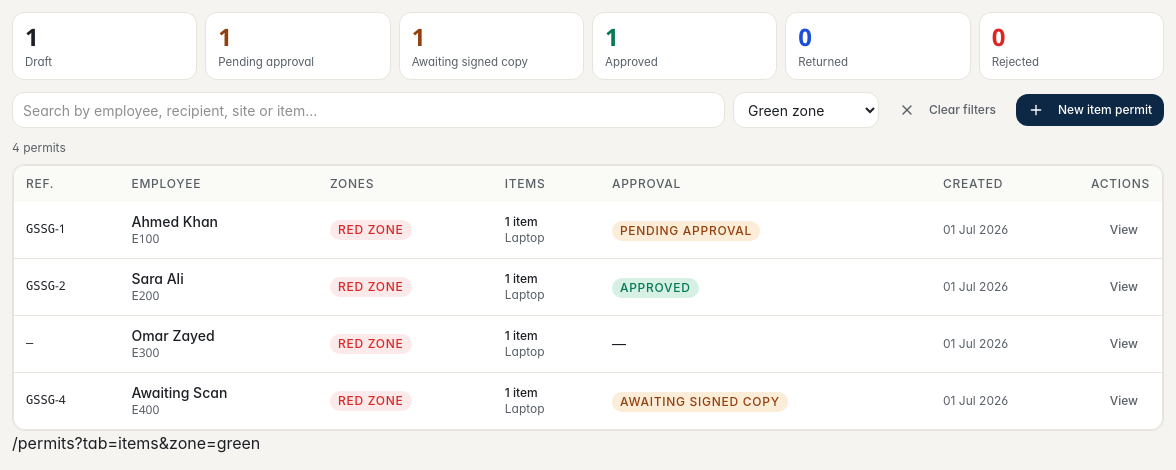
Test: ItemPermitsTab › passes URL zone green to the server and preserves it when selecting approval
Expected: the text "Ahmed Khan" is shown, x1=132 y1=213 x2=218 y2=230
Expected: the dropdown named "Zone" shows "Green zone", x1=733 y1=92 x2=879 y2=128
Click the button "1 Pending approval" at (298, 46), box x1=205 y1=12 x2=391 y2=80
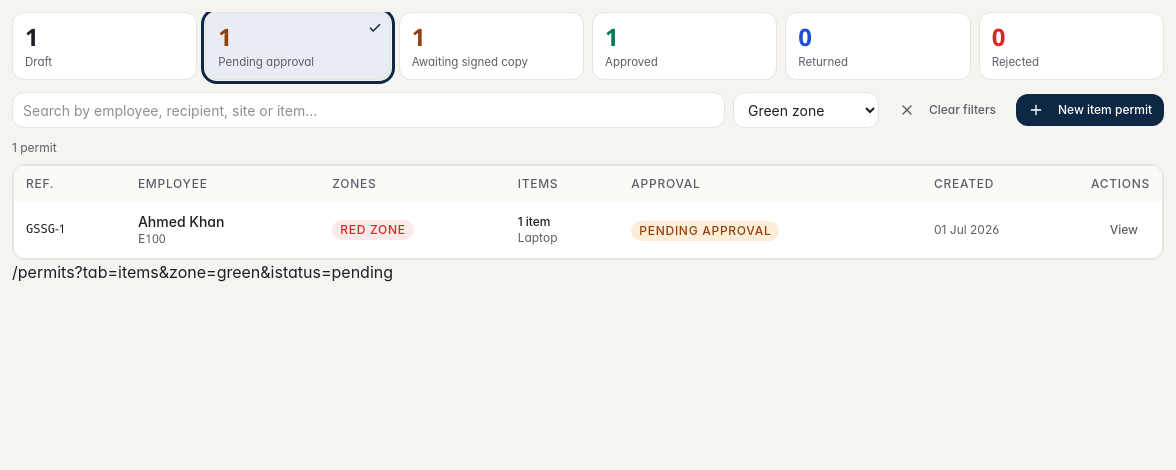
Expected: the text with test id "location" shows "zone=green", x1=12 y1=262 x2=393 y2=282
Now the text with test id "location" shows "istatus=pending", box x1=12 y1=262 x2=393 y2=282
Click the button "Clear filters" at (947, 110), box x1=887 y1=94 x2=1008 y2=126
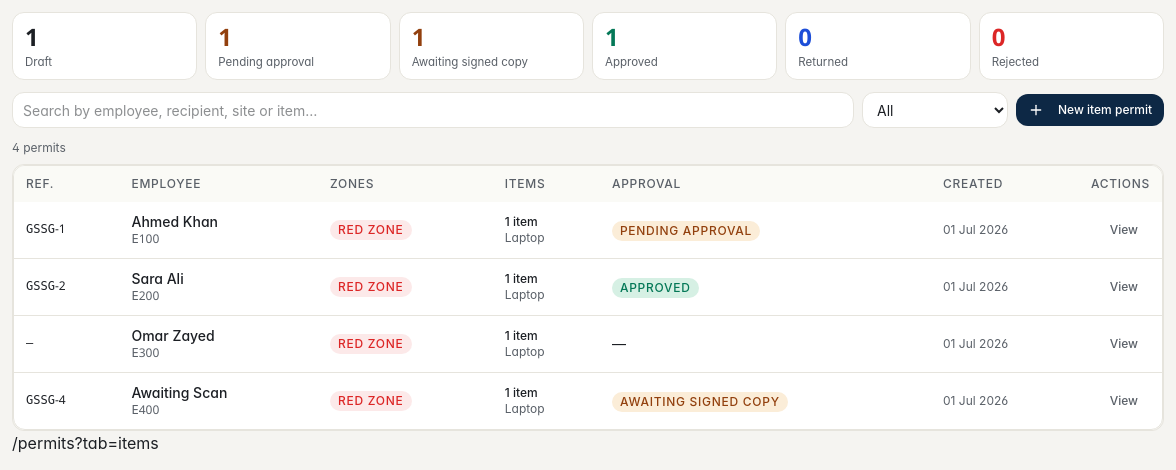
Now the text with test id "location" reads "/permits?tab=items", box x1=12 y1=433 x2=159 y2=453
